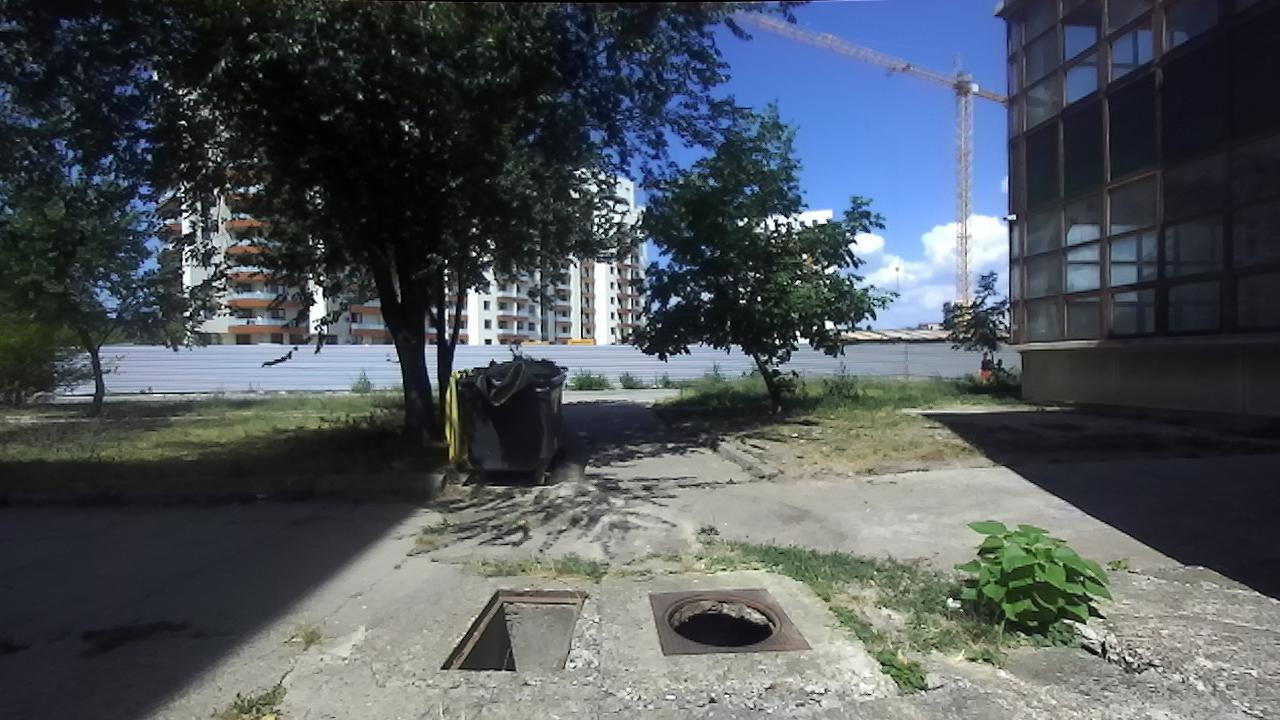drain: (432, 586, 590, 673), (663, 591, 787, 645)
